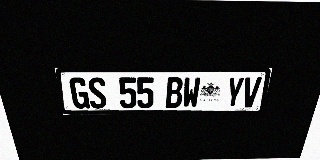5: (118, 77, 137, 108), (136, 77, 154, 108)
B: (166, 77, 183, 108)
G: (69, 77, 90, 109)
S: (87, 77, 107, 109)
V: (240, 77, 262, 107)
W: (182, 77, 201, 108)
Y: (224, 77, 245, 108)
